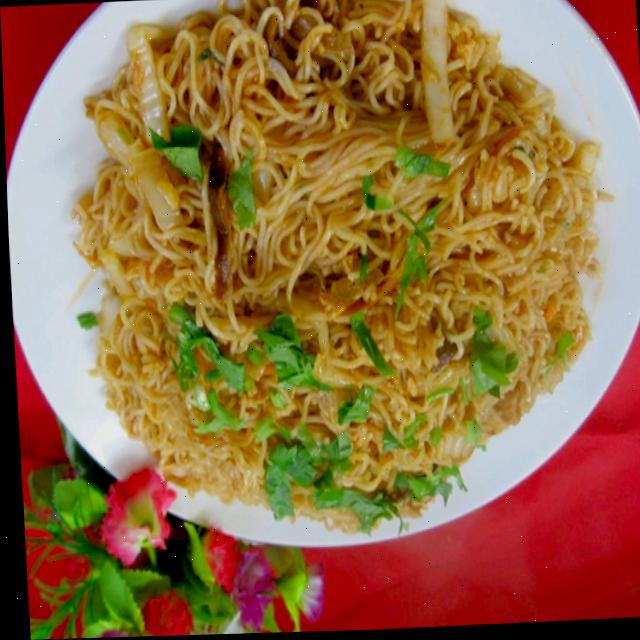面条主食: (18, 0, 640, 580)
